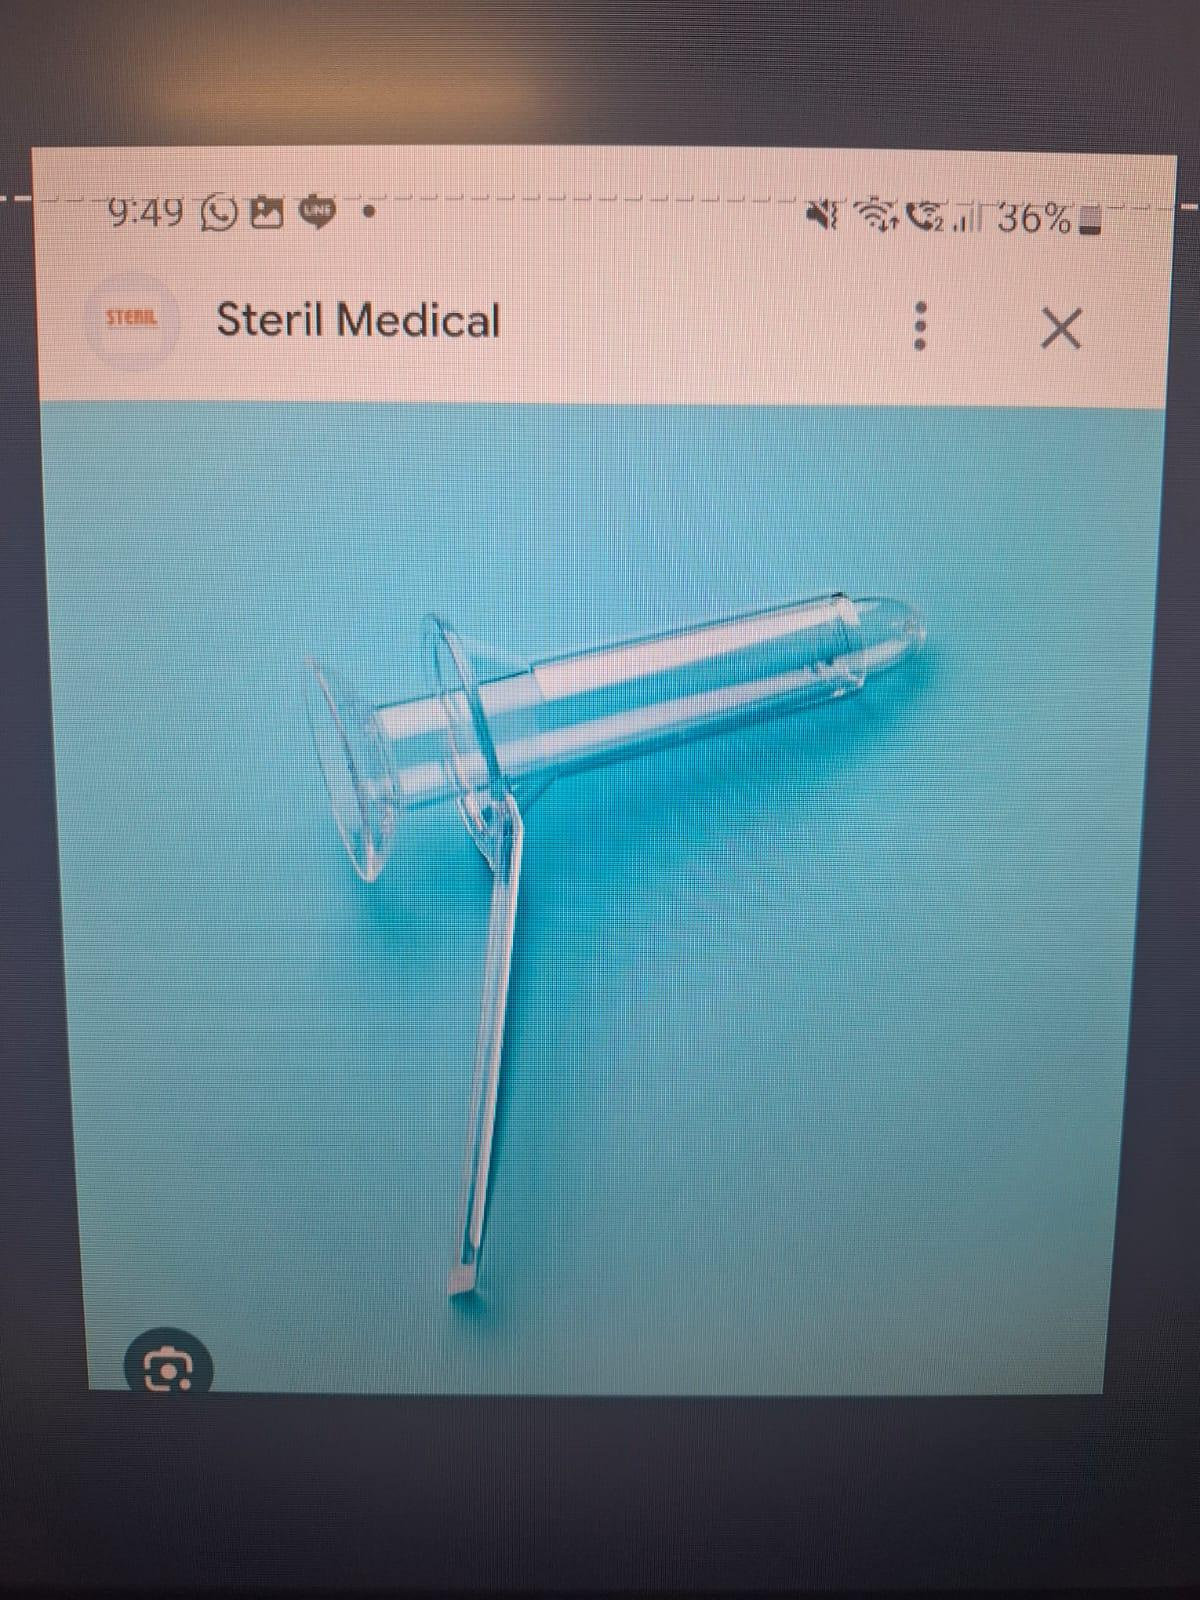Protoscope: (280, 580, 943, 1328)
